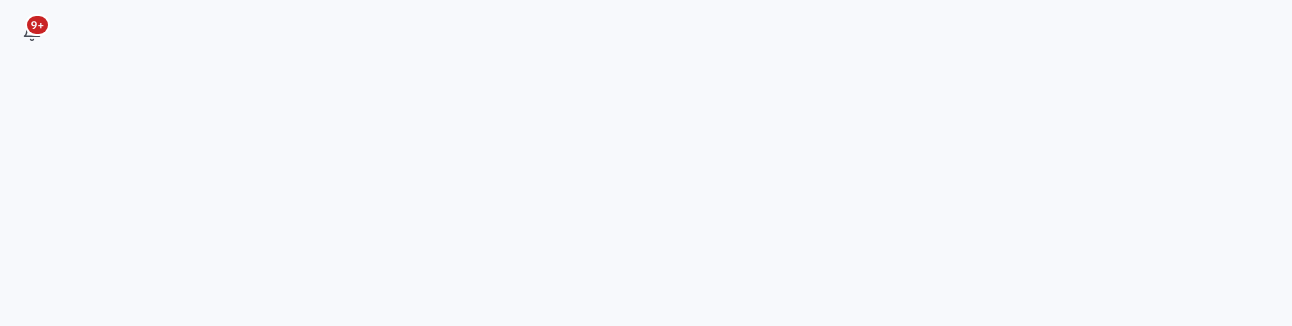
Test case: NotificationBell › marks everything up to the newest shown as read when opened, so the count drops to 0
Click the button named "Notifications, 32 unread": {"x": 32, "y": 32} x1=12 y1=12 x2=52 y2=52
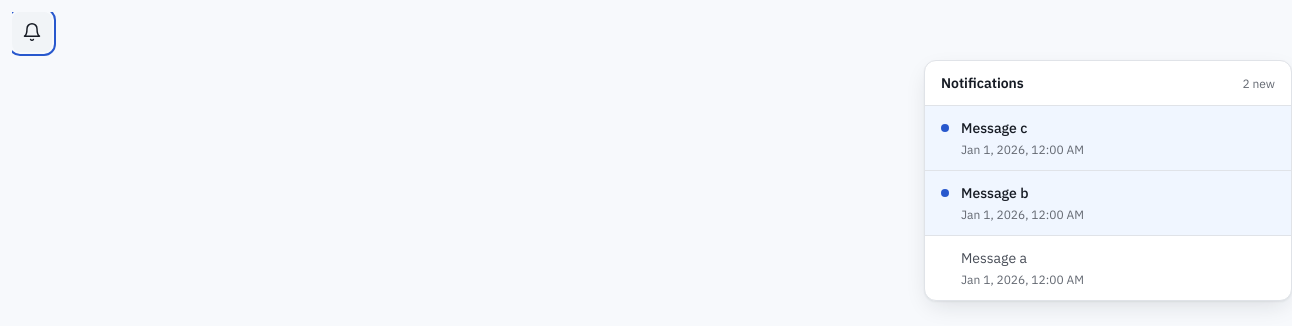
Now the number of links is 3, box x1=925 y1=106 x2=1291 y2=170; x1=925 y1=171 x2=1291 y2=235; x1=961 y1=249 x2=1084 y2=287
Now the button named "Notifications, 0 unread" is shown, box x1=12 y1=12 x2=52 y2=52
